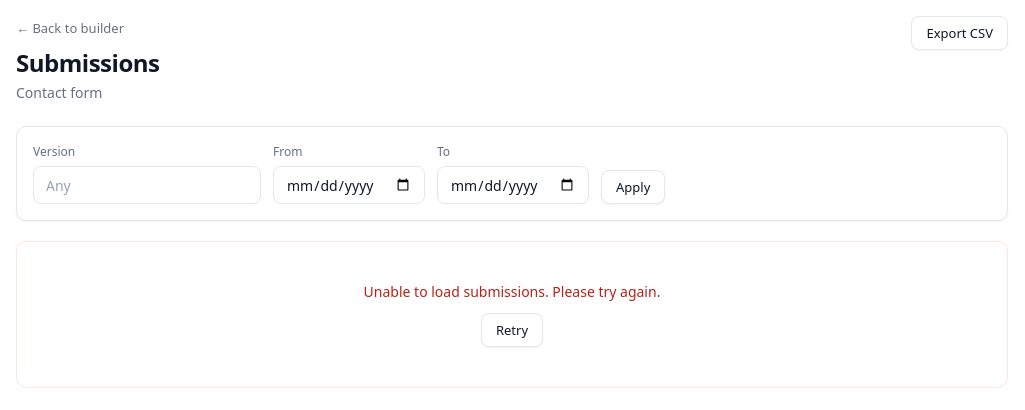
Test: SubmissionsPage › shows a safe error with Retry, and recovers
expect the message shows "Unable to load submissions": met, box [364, 282, 660, 301]
Click the button "Retry". click: point(512, 330)
box: [481, 313, 543, 347]
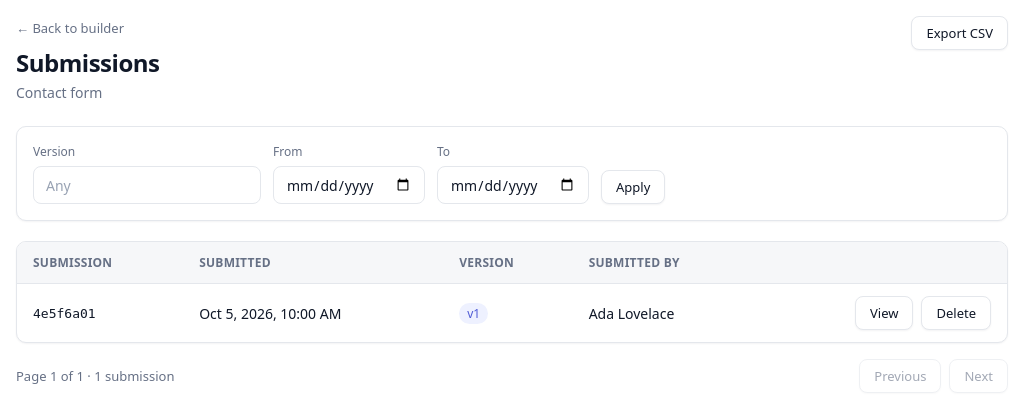
expect the table is shown: met, box [17, 242, 1007, 342]
